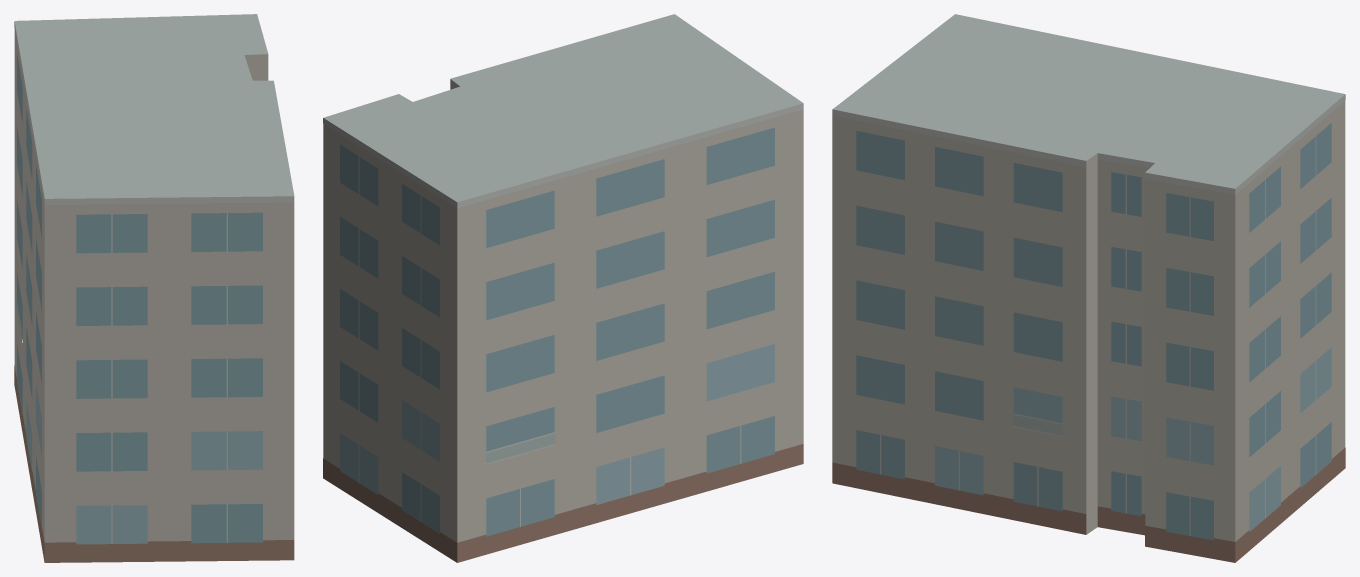
Rendered from survey-upis-32925505.glb.
The picture shows the model from 3 angles, left to right: view 1: azimuth 30°, elevation 25°; view 2: azimuth 150°, elevation 25°; view 3: azimuth 270°, elevation 25°; orthographic projection. The views are drawn at different scales.
Visible parts, largest first — view 1: survey-upis-32925505.tmp; view 2: survey-upis-32925505.tmp; view 3: survey-upis-32925505.tmp.
Part boxes in pixels (x1,y1,x2,y2): survey-upis-32925505.tmp: (14, 14, 294, 562); survey-upis-32925505.tmp: (323, 14, 803, 562); survey-upis-32925505.tmp: (832, 14, 1345, 562).
Bounding box in the file's own units: 14.75 × 14.7 × 18.28.
